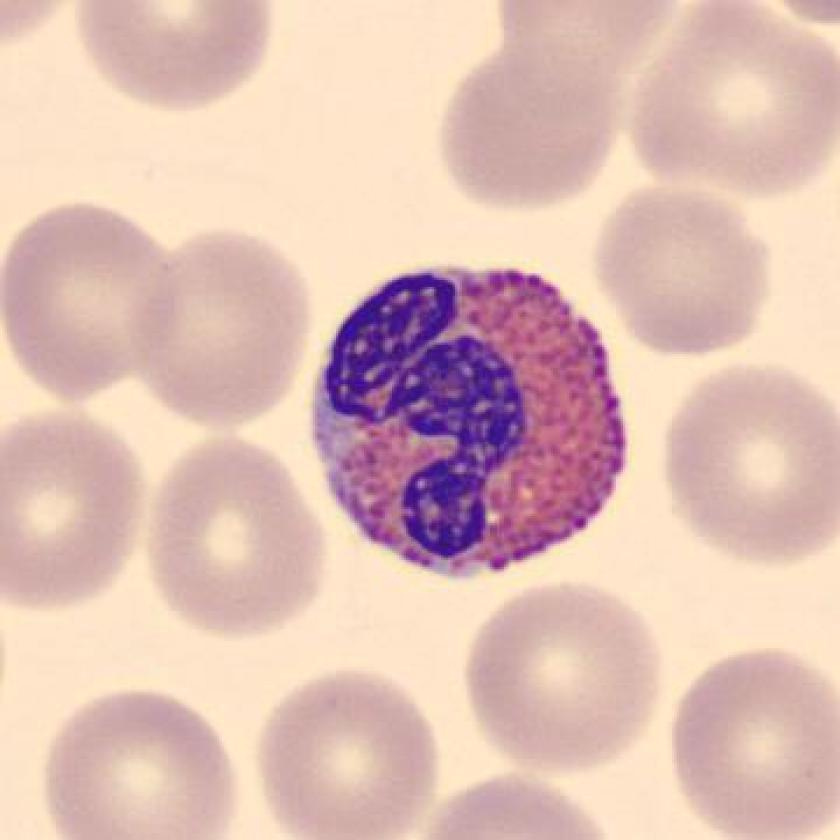eosinophil: (297, 253, 645, 598)
